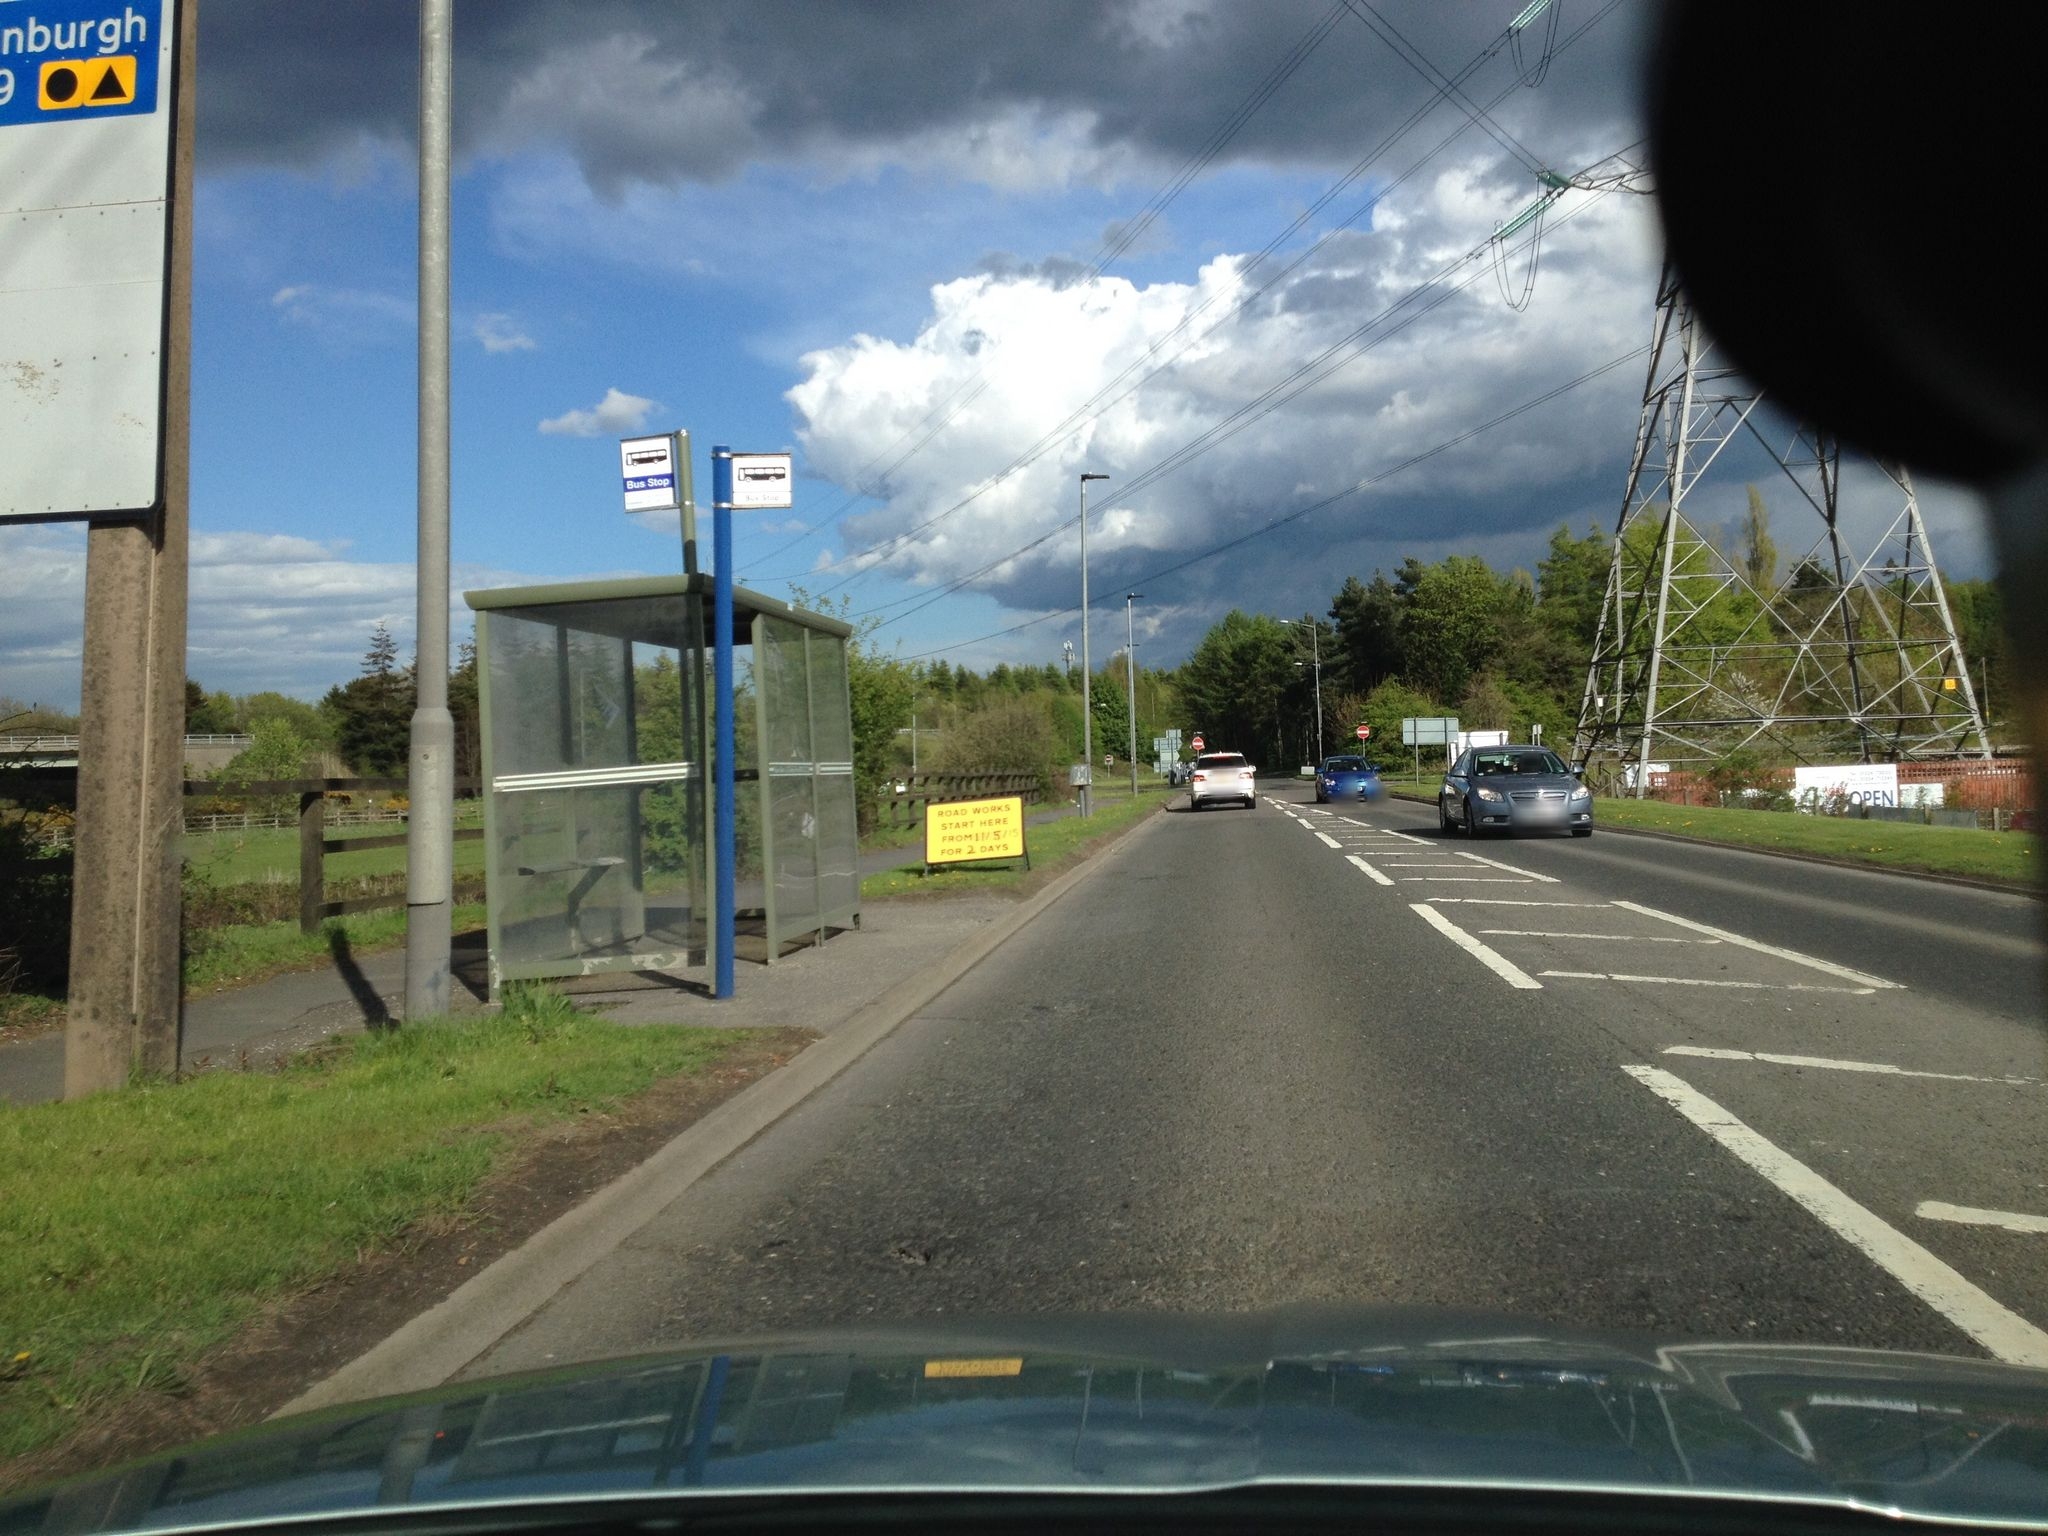car: (1438, 744, 1593, 837), (1188, 750, 1256, 812), (1314, 753, 1384, 803)
